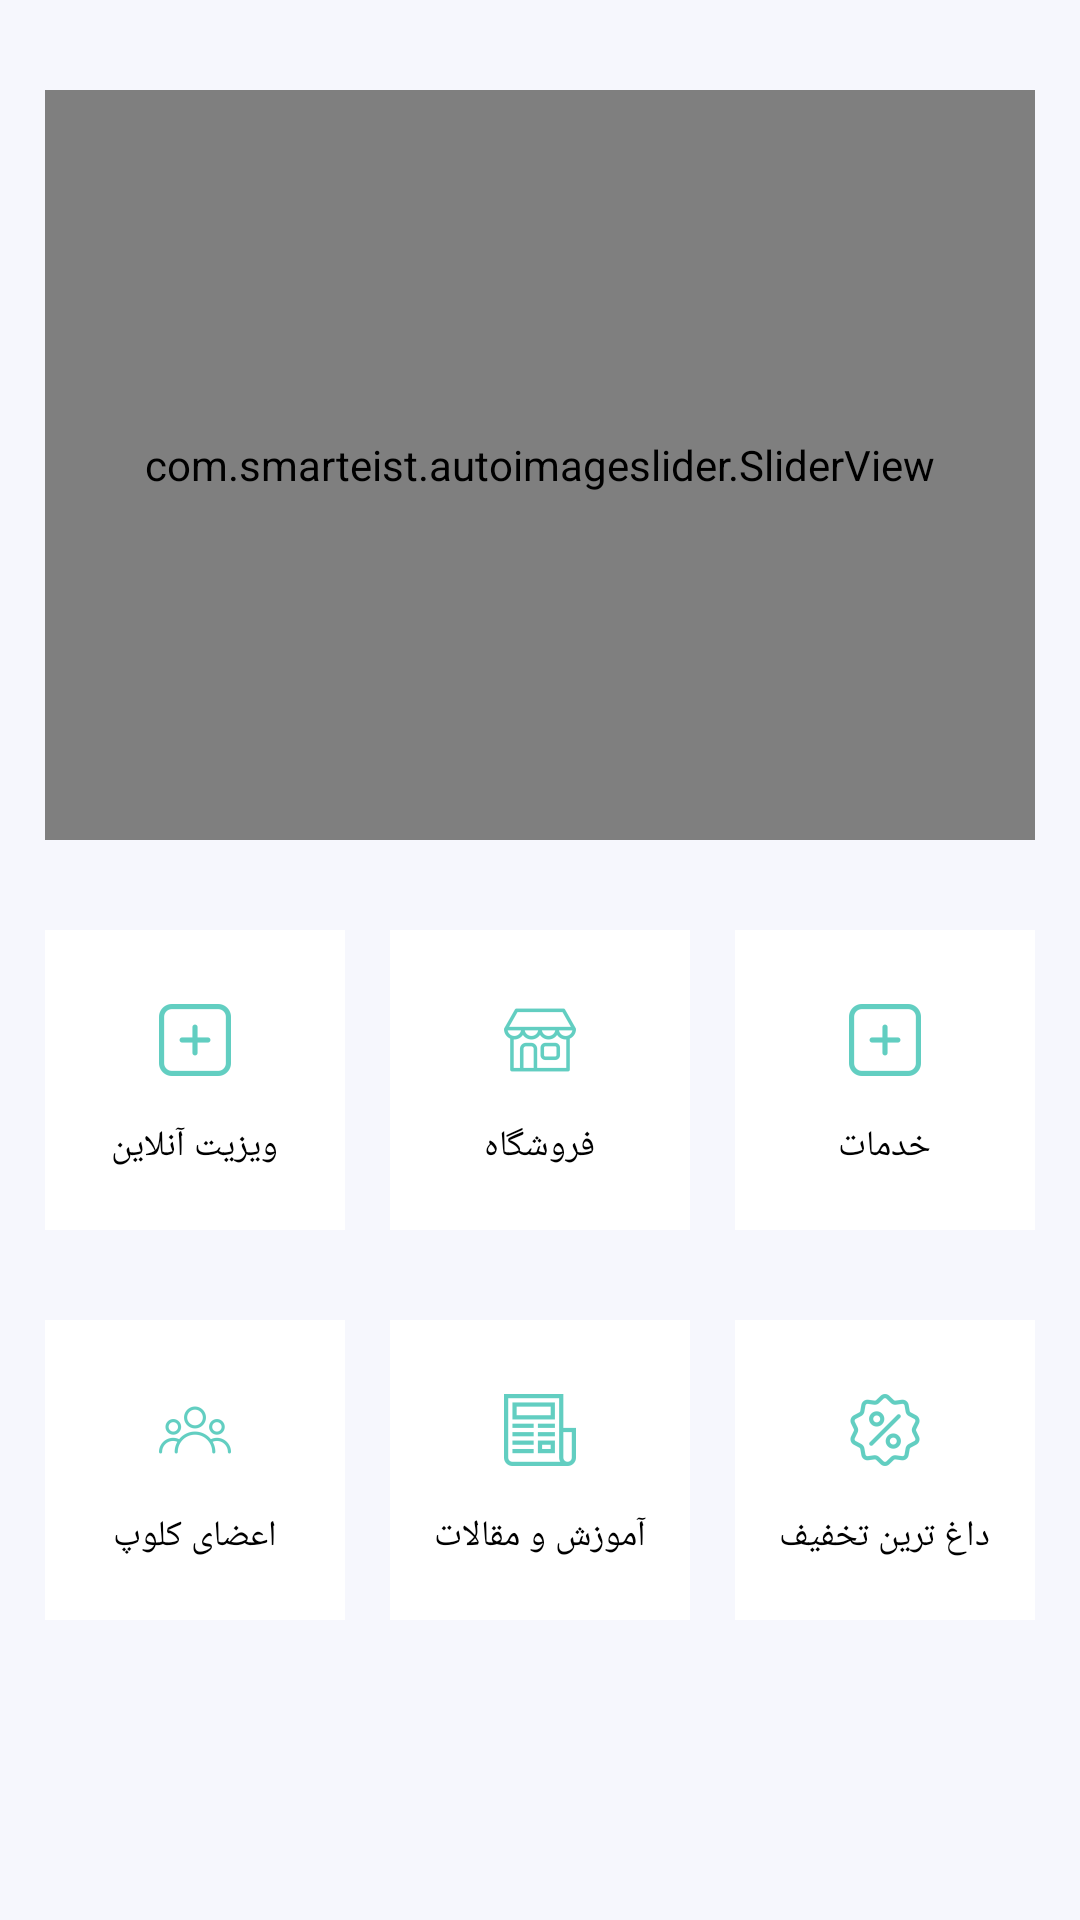

Icon bounding boxes for this 1080px×1920px phone screenshot, format (x1, y1, x2, y2):
education paper: (504, 1394, 576, 1466)
hottest discount: (850, 1394, 920, 1466)
shop: (504, 1008, 576, 1072)
users club: (159, 1406, 231, 1454)
